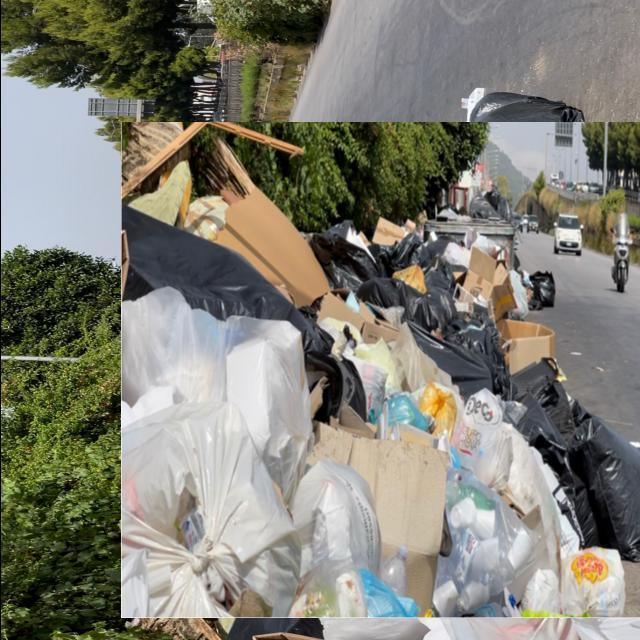Trashbag: (125, 205, 314, 338), (522, 406, 588, 536), (579, 415, 640, 552), (306, 216, 384, 292), (361, 274, 409, 324), (420, 289, 461, 334), (463, 320, 500, 362)
